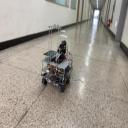cart: (40, 54, 73, 92)
